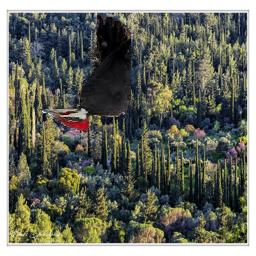Woodpecker: (39, 15, 132, 131)
